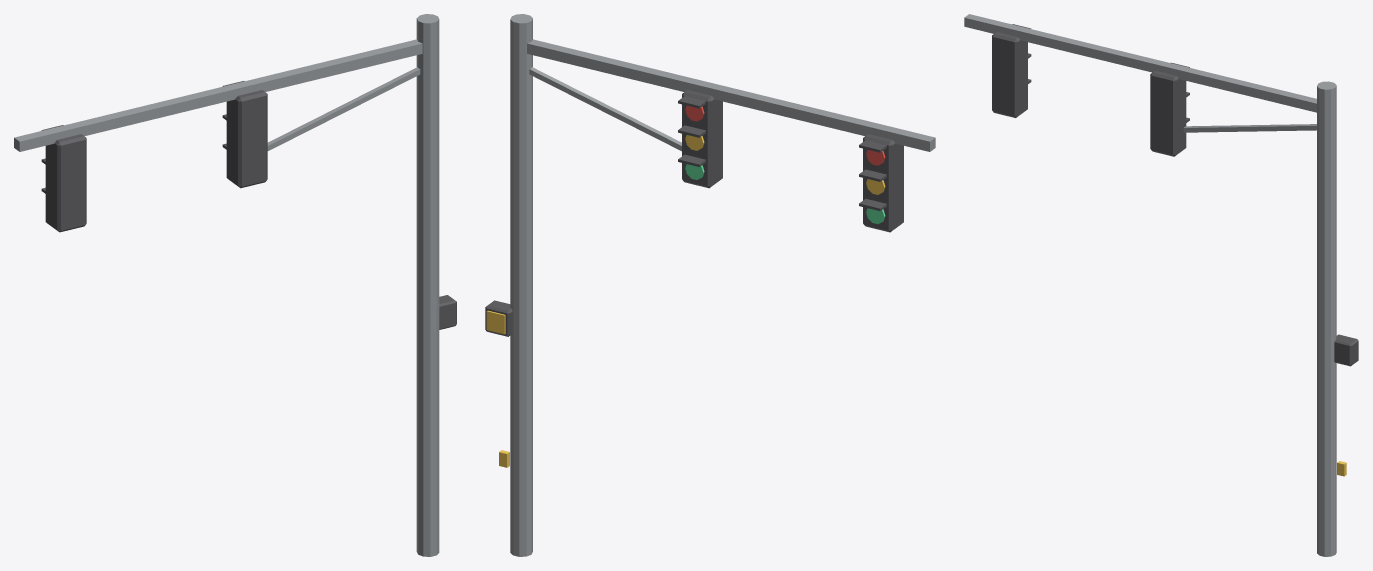
The model's file is traffic_light.glb.
3 renders of one model, left to right at view 1: azimuth 30°, elevation 25°; view 2: azimuth 150°, elevation 25°; view 3: azimuth 330°, elevation 25°, orthographic. The views are drawn at different scales.
Parts seen in each view (by area): view 1: body; view 2: body; view 3: body.
Boxes of the visible parts, x1,y1,x2,y2 form: body: (14, 14, 456, 556); body: (485, 14, 935, 556); body: (964, 14, 1358, 556).
Bounding box in the file's own units: 5.35 × 6.2 × 0.44.
